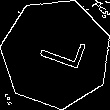L_W: (27, 30, 85, 77)
